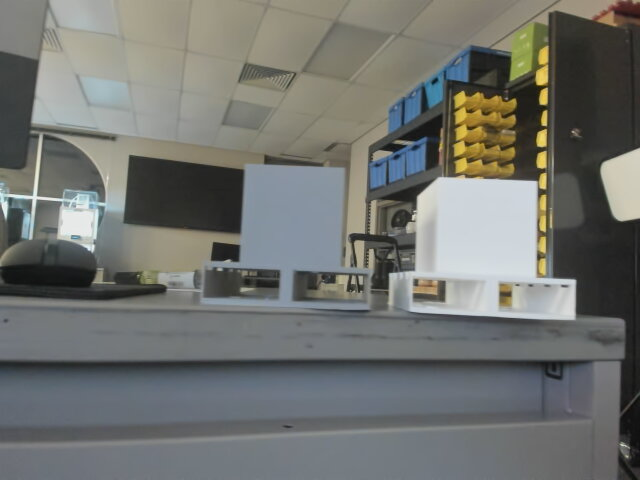grey pallet: (193, 161, 379, 319)
white pallet: (386, 176, 578, 326)
